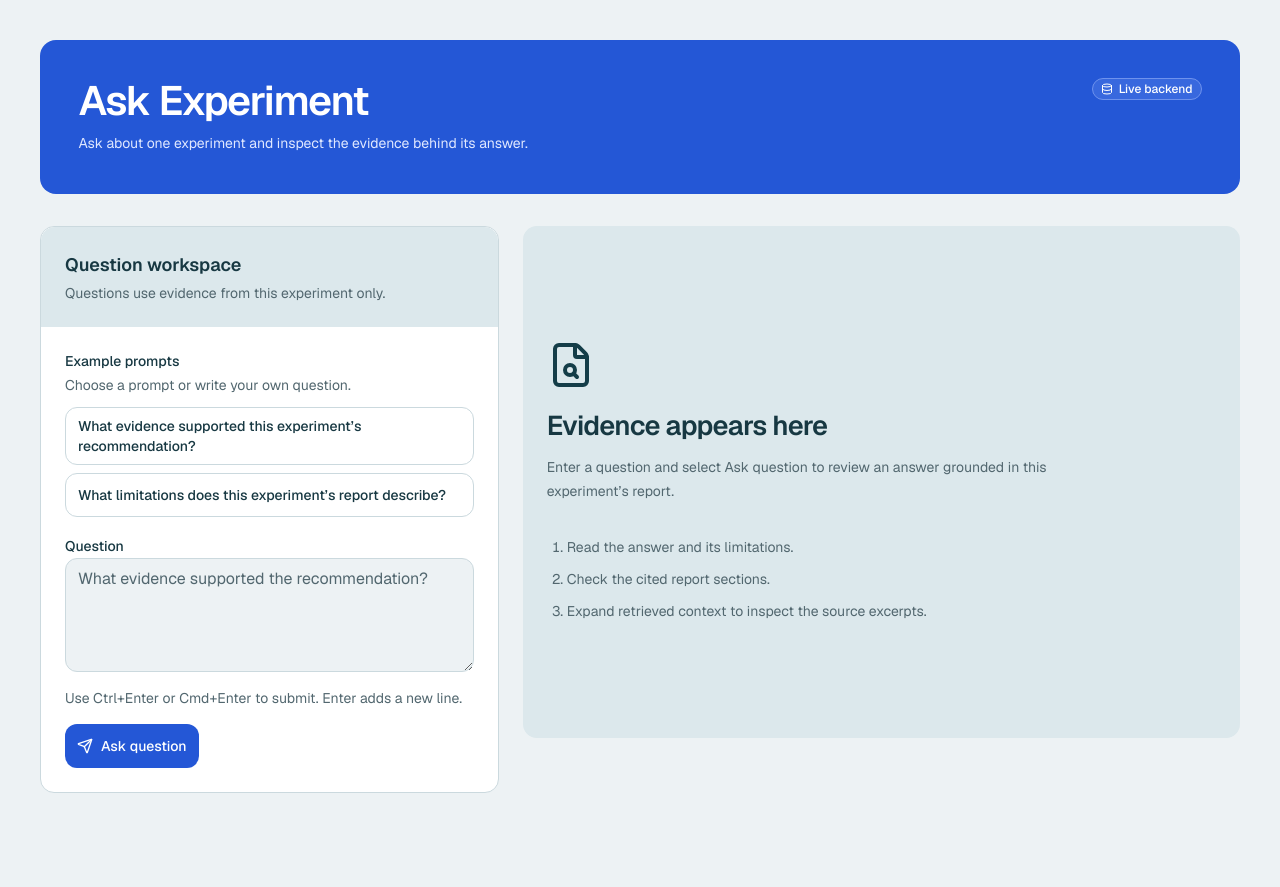
Ask recovery and context integrity › retries the failed question even if the draft was edited
Type "What evidence supported the payment experiment recommendation?" into the text box labelled "Question" at (269, 615), box [65,558,474,672]
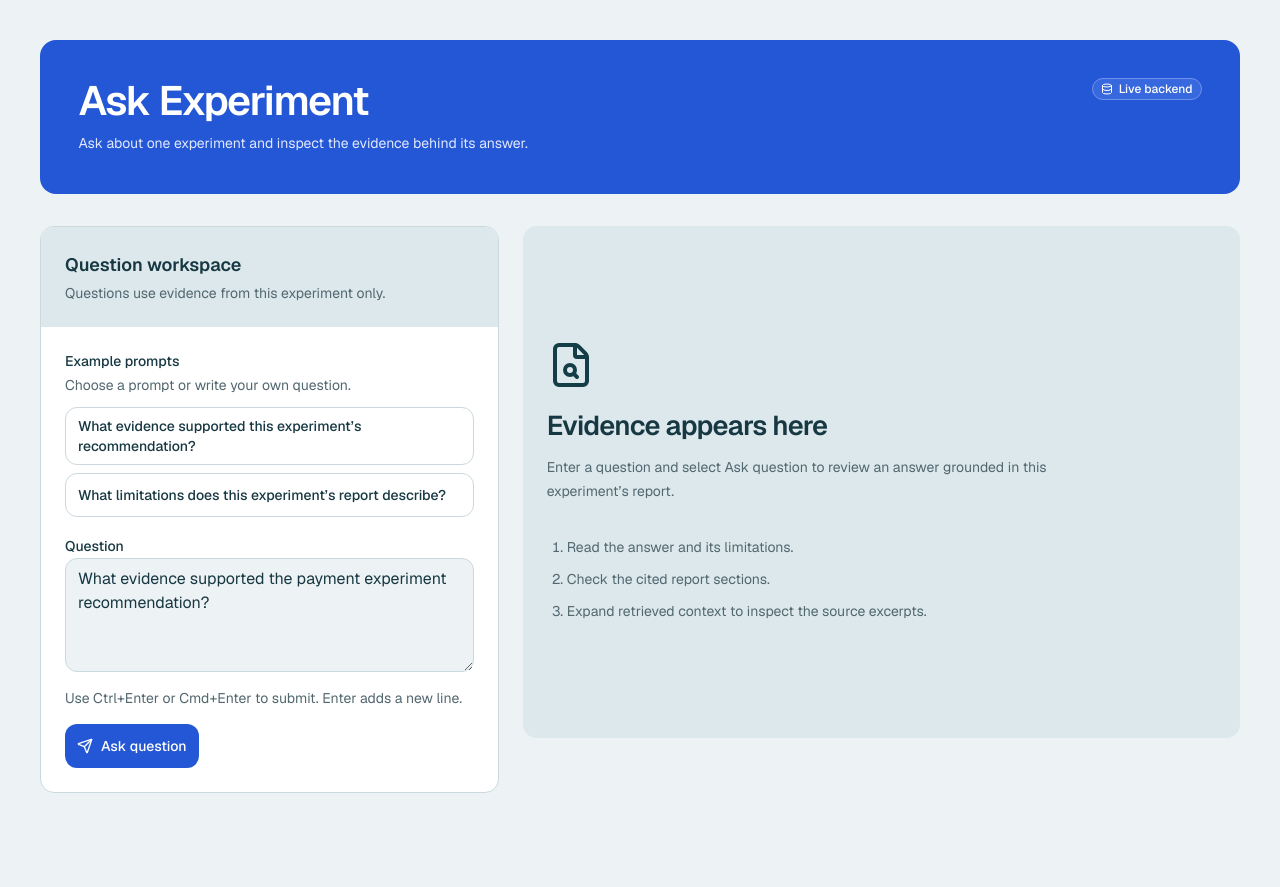
Click the button "Ask question" at (132, 746), box [65,724,199,768]
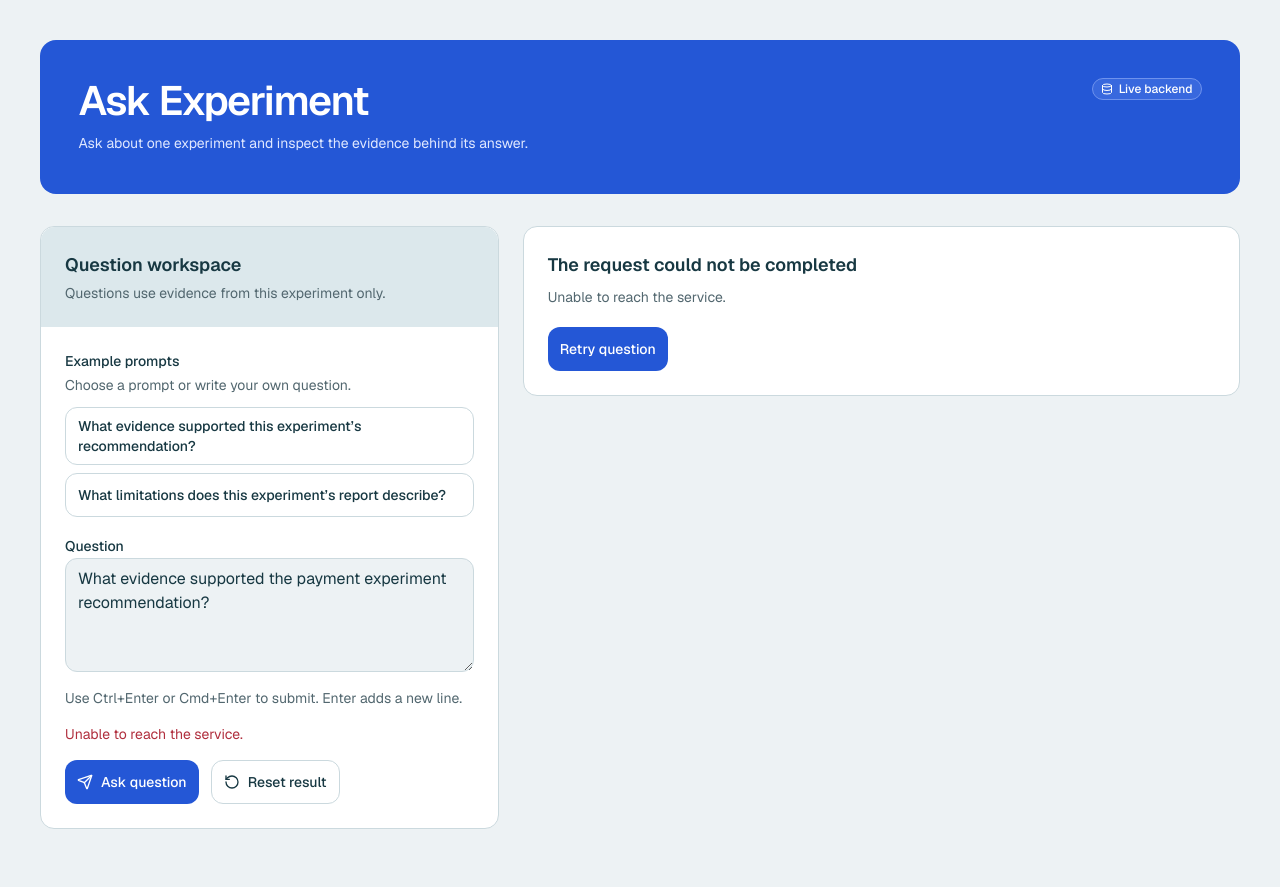
Replace the text in the text box labelled "Question" with "Different draft" at (269, 615), box [65,558,474,672]
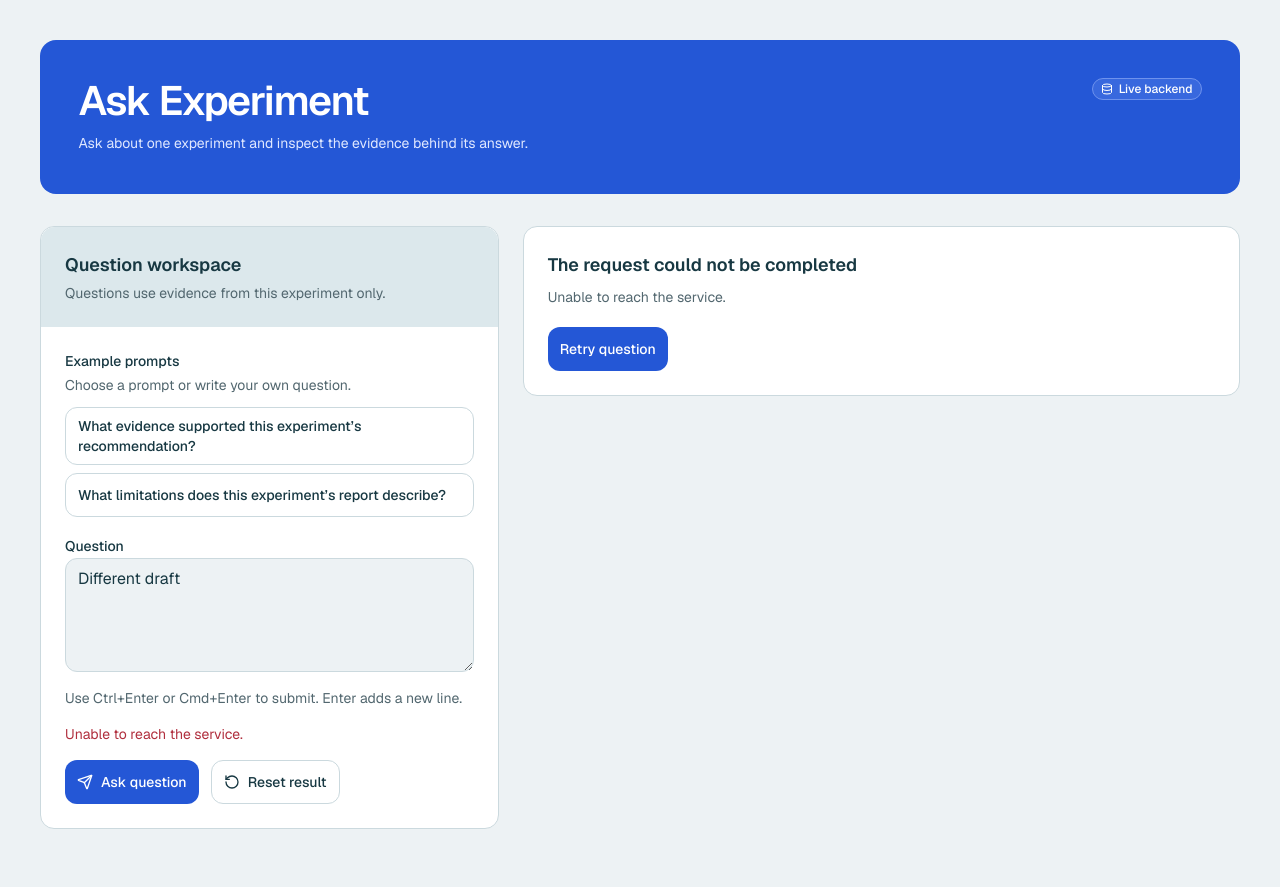
Click the button "Retry question" at (608, 349), box [548,327,668,371]
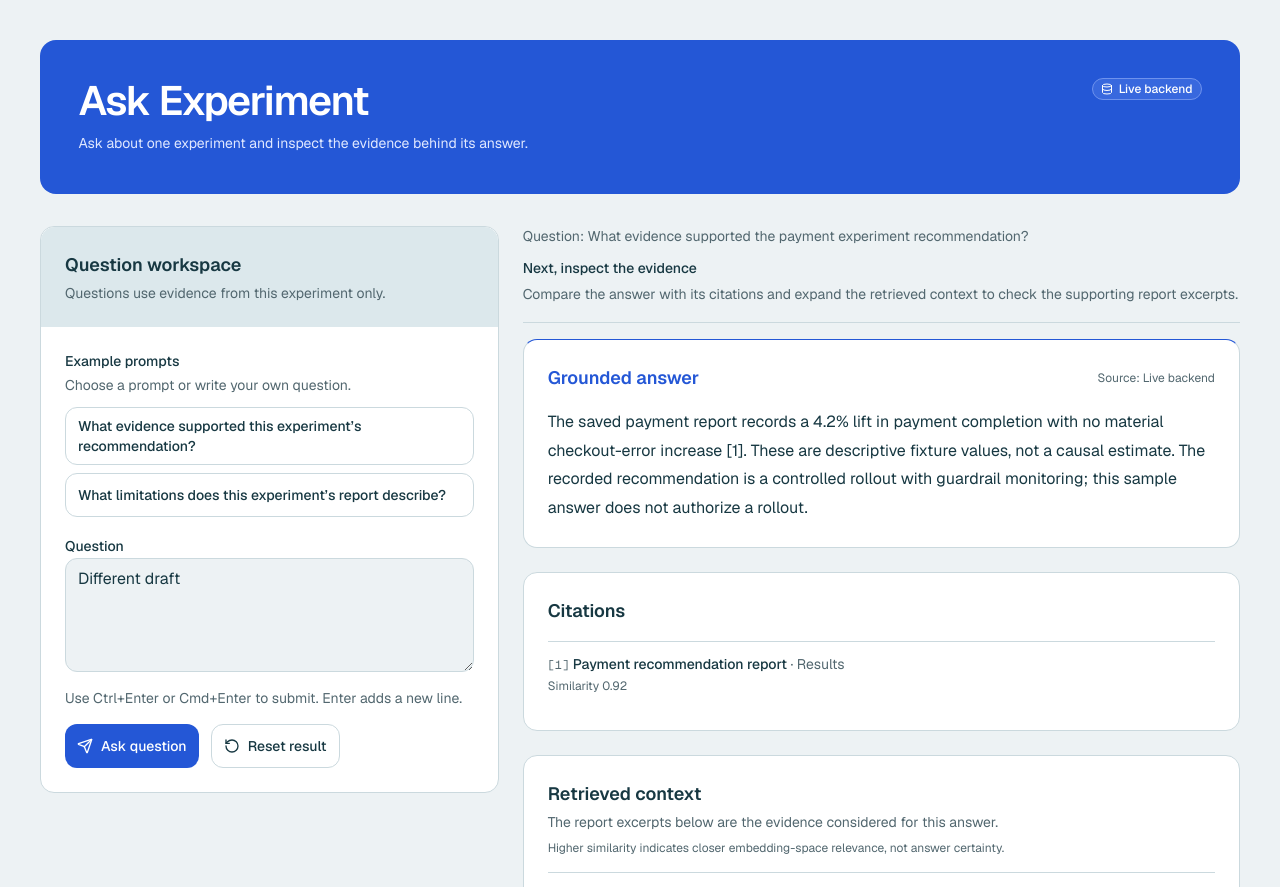
expect the heading "Grounded answer" is shown: met, box [548,364,699,392]
